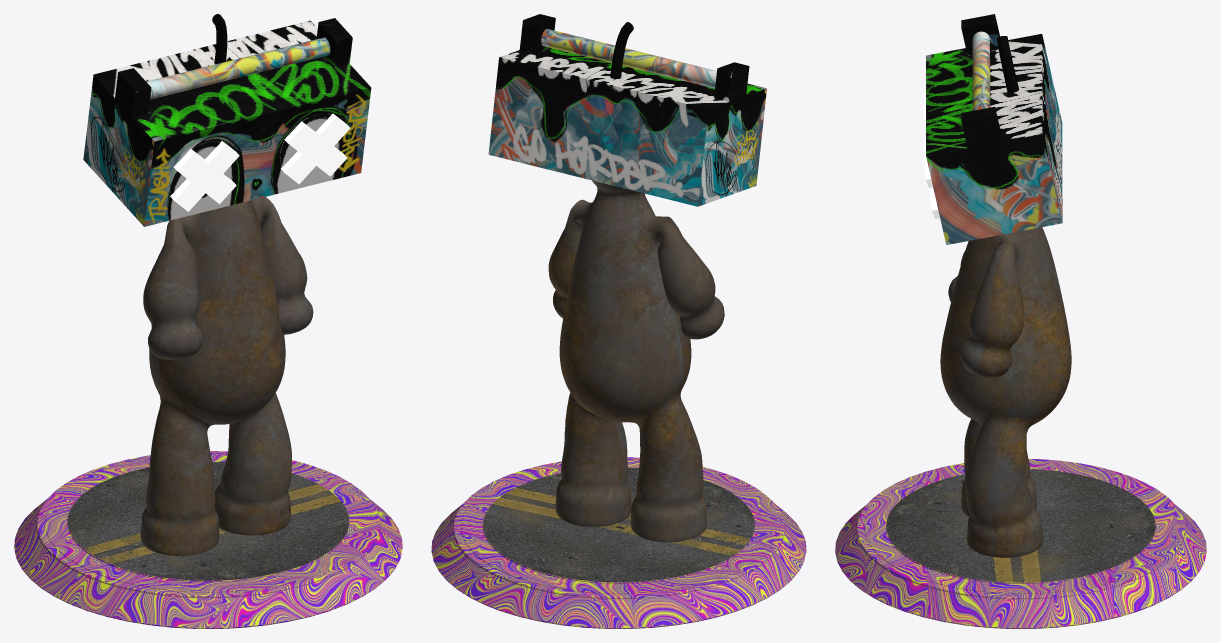
File: 51_sanitized.glb
3 renders of one model, left to right at view 1: azimuth 30°, elevation 25°; view 2: azimuth 150°, elevation 25°; view 3: azimuth 270°, elevation 25°, orthographic. The views are drawn at different scales.
Visible parts, largest first — view 1: BBody; view 2: BBody; view 3: BBody.
Boxes of the visible parts, left/top/right/bottom form: BBody: left=14, top=14, right=402, bottom=628; BBody: left=431, top=14, right=806, bottom=628; BBody: left=835, top=14, right=1206, bottom=628.
Size of the model in its own units: 1.45 by 2.22 by 1.45.
6 materials, 4 textured.
